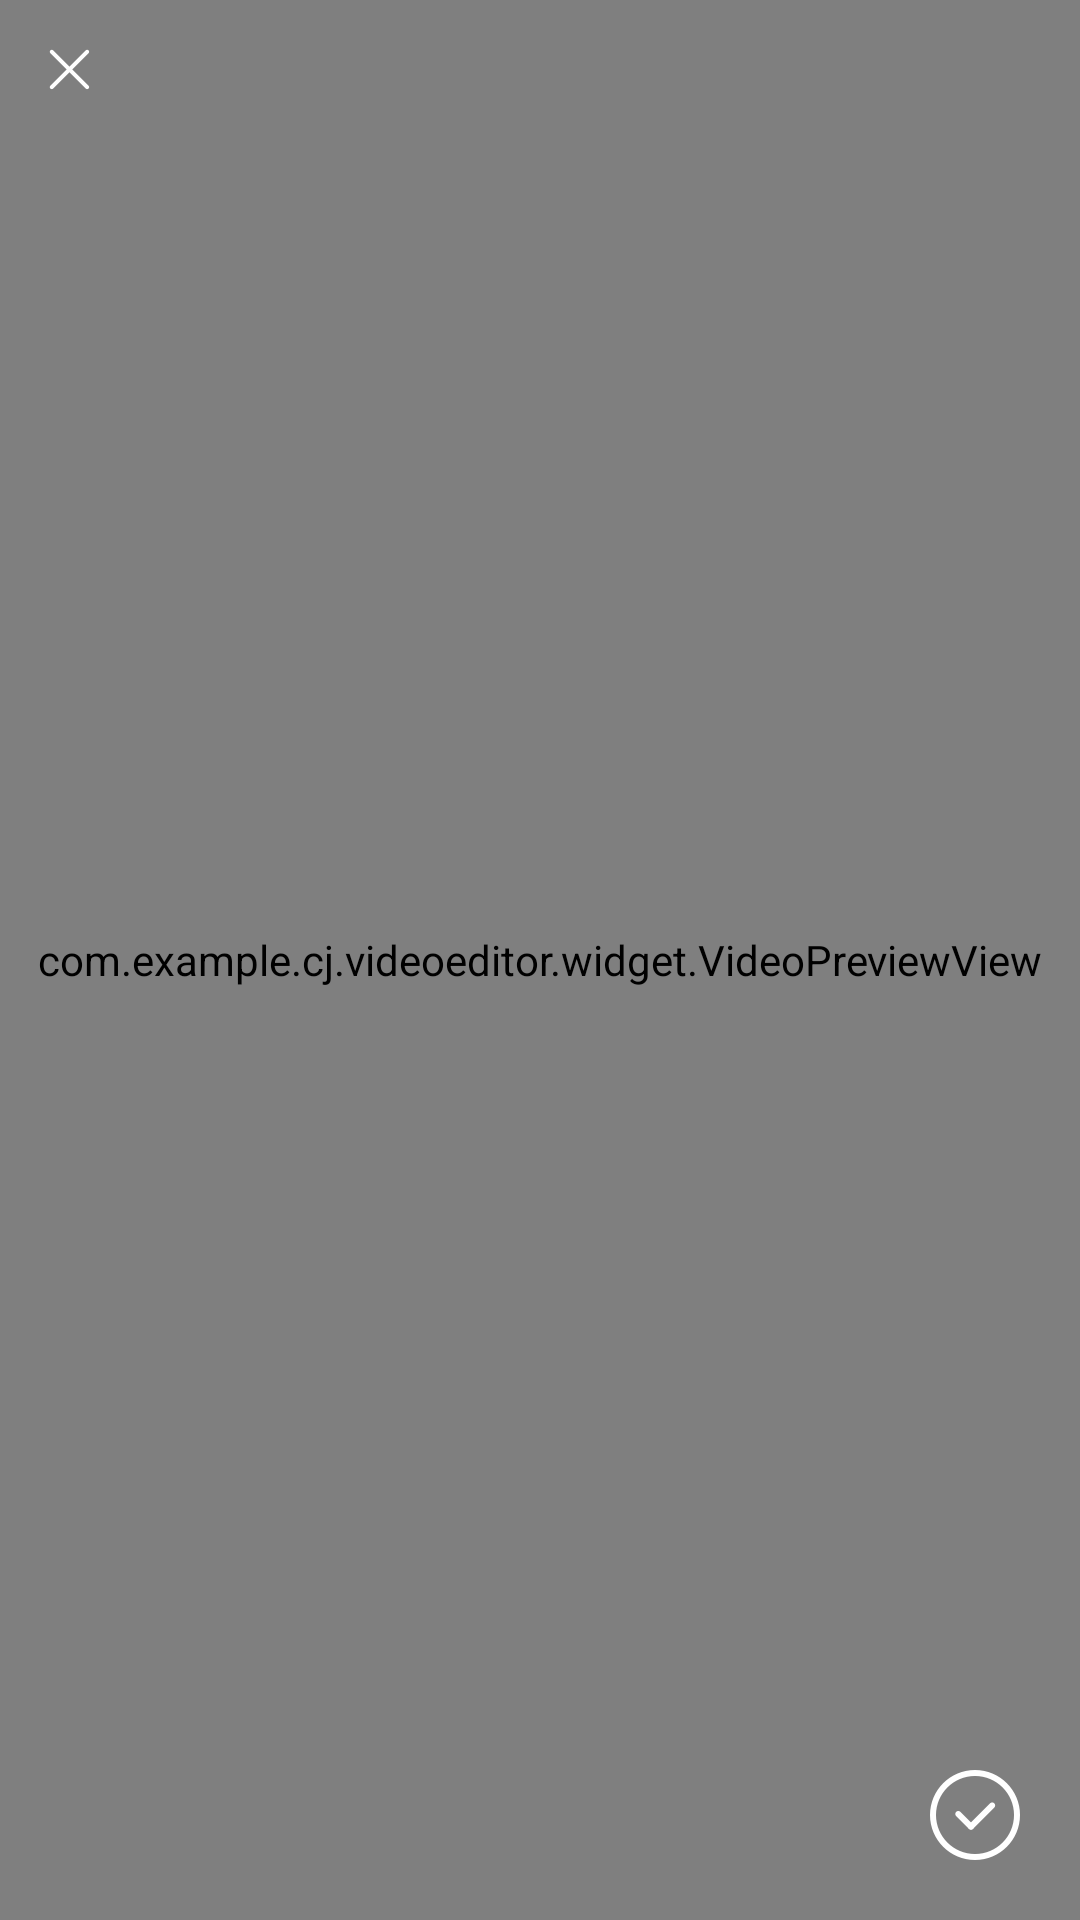

Icons on this 1080×1920 Android screen, each with its box as (x1, y1, x2, y2):
editor confirm: (930, 1770, 1020, 1860)
editor record close: (50, 50, 89, 89)
